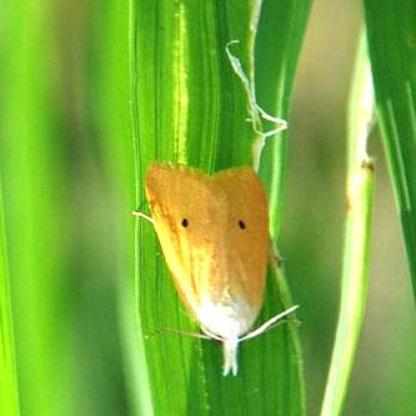stem-borer: (136, 162, 300, 377)
